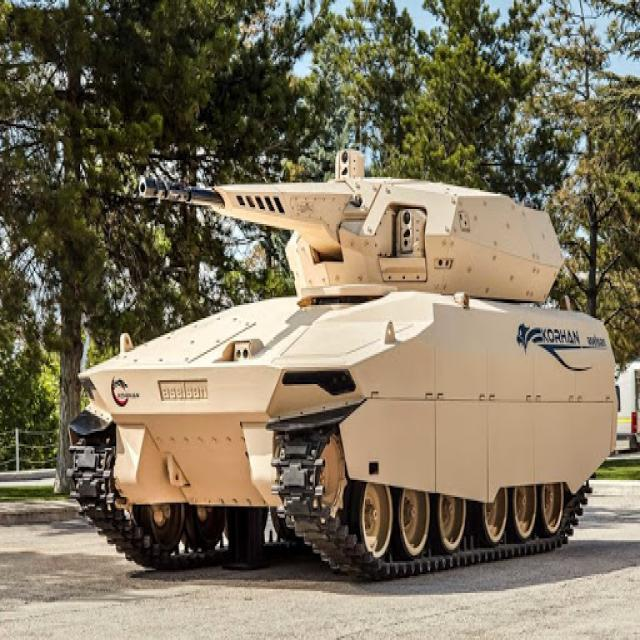MIL_MBT: (66, 147, 624, 572)
